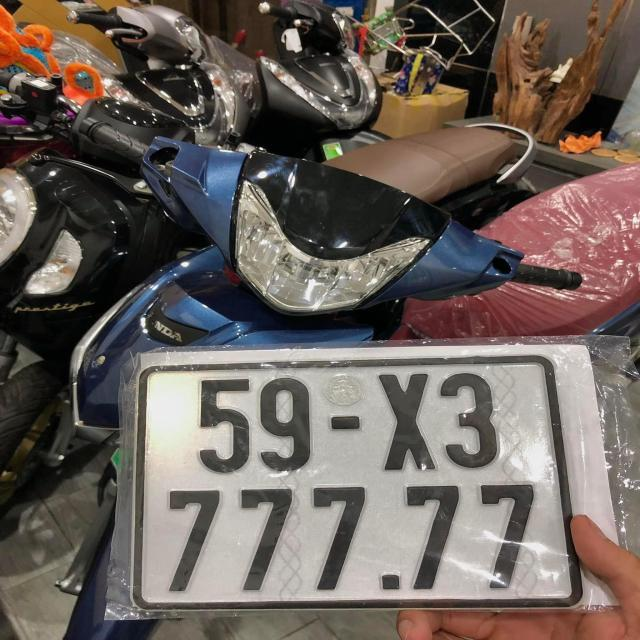3: (440, 368, 502, 471)
5: (190, 373, 254, 475)
7: (475, 481, 536, 591), (400, 482, 461, 592), (160, 486, 222, 594), (232, 484, 292, 594), (306, 482, 366, 592)
9: (256, 373, 314, 474)
X: (372, 368, 437, 472)
